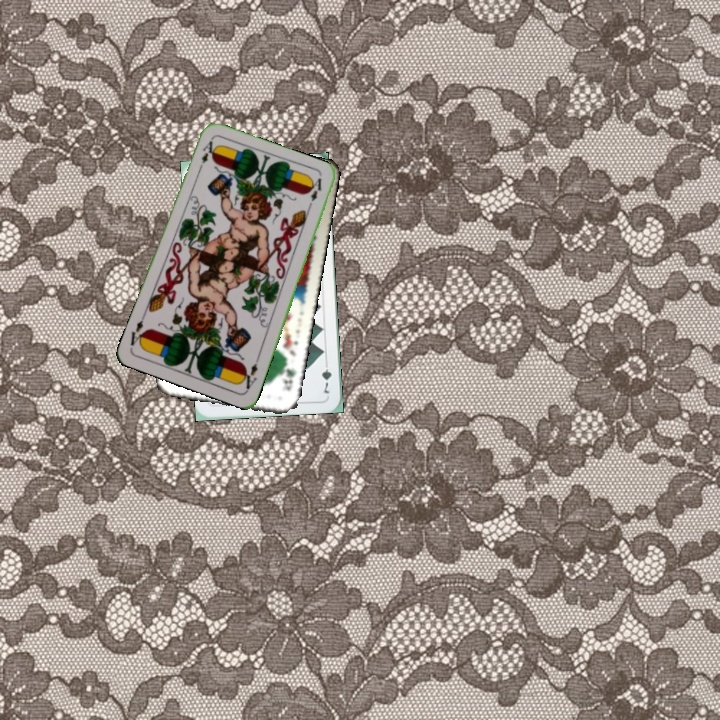EA: (237, 353, 262, 393), (194, 137, 215, 174)
G7: (318, 356, 334, 396)
GK: (279, 358, 299, 393)
